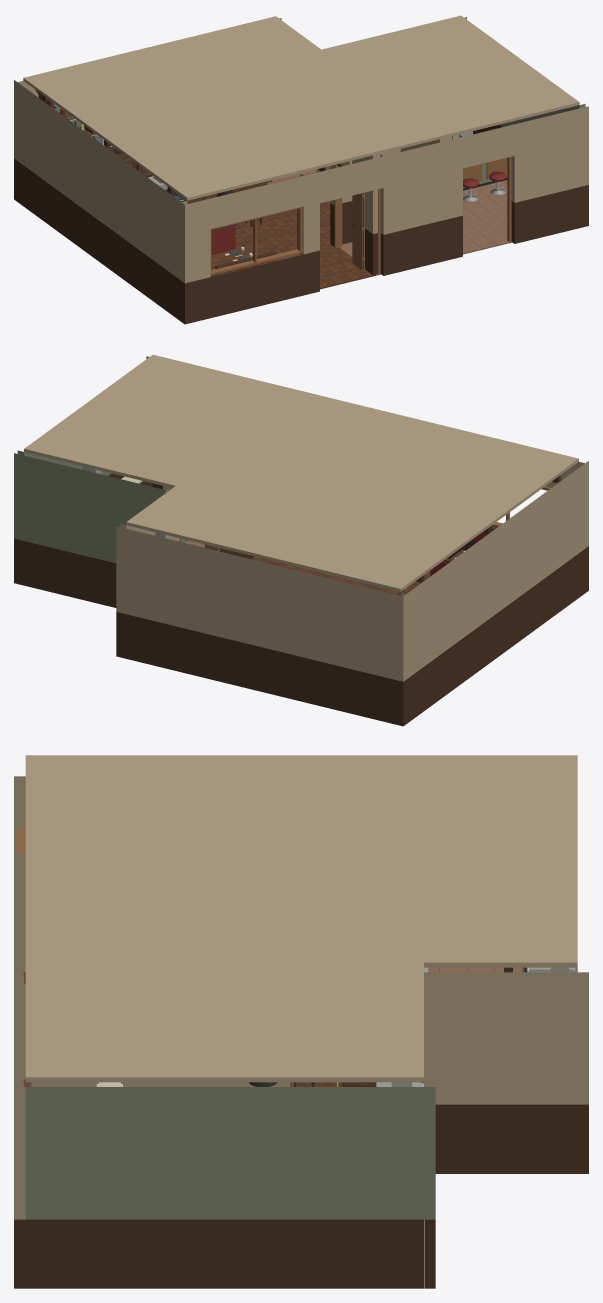
The model's file is minato-interior-compact.glb.
3 renders of one model, top to bottom at view 1: azimuth 30°, elevation 25°; view 2: azimuth 150°, elevation 25°; view 3: azimuth 270°, elevation 25°, orthographic. The views are drawn at different scales.
Parts seen in each view (by area): view 1: Minato compact / ceiling / Warm lime plaster, Minato compact / room / Warm lime plaster, Minato compact / room / Cedar joinery, Minato compact / room / Cedar floor, Minato compact / room / Honey cedar, Minato compact / room / Quarry tile, Minato compact / room / Oxblood upholstery, Minato compact / room / Sato sage plaster, Minato compact / room / Brushed kitchen steel; view 2: Minato compact / ceiling / Warm lime plaster, Minato compact / room / Warm lime plaster, Minato compact / room / Cedar joinery, Minato compact / room / Sato sage plaster, Backbar / Wood; view 3: Minato compact / ceiling / Warm lime plaster, Minato compact / room / Sato sage plaster, Minato compact / room / Cedar joinery, Minato compact / room / Warm lime plaster.
Part boxes in pixels (bbox=[...]): Minato compact / ceiling / Warm lime plaster: bbox=[23, 15, 579, 200]; Minato compact / room / Warm lime plaster: bbox=[14, 18, 588, 283]; Minato compact / room / Cedar joinery: bbox=[14, 125, 588, 324]; Minato compact / room / Cedar floor: bbox=[211, 172, 375, 289]; Minato compact / room / Honey cedar: bbox=[153, 157, 511, 275]; Minato compact / room / Quarry tile: bbox=[267, 169, 511, 275]; Minato compact / room / Oxblood upholstery: bbox=[211, 171, 506, 275]; Minato compact / room / Sato sage plaster: bbox=[463, 17, 585, 188]; Minato compact / room / Brushed kitchen steel: bbox=[148, 131, 505, 202]; Minato compact / ceiling / Warm lime plaster: bbox=[24, 354, 578, 591]; Minato compact / room / Warm lime plaster: bbox=[116, 356, 588, 681]; Minato compact / room / Cedar joinery: bbox=[14, 473, 588, 726]; Minato compact / room / Sato sage plaster: bbox=[14, 450, 186, 563]; Backbar / Wood: bbox=[252, 556, 403, 595]; Minato compact / ceiling / Warm lime plaster: bbox=[25, 755, 577, 1082]; Minato compact / room / Sato sage plaster: bbox=[25, 1087, 435, 1219]; Minato compact / room / Cedar joinery: bbox=[14, 1082, 588, 1288]; Minato compact / room / Warm lime plaster: bbox=[14, 776, 588, 1219].
Bounding box in the file's own units: 10.24 × 3 × 7.5.
Materials: 33 (6 with a texture image).
